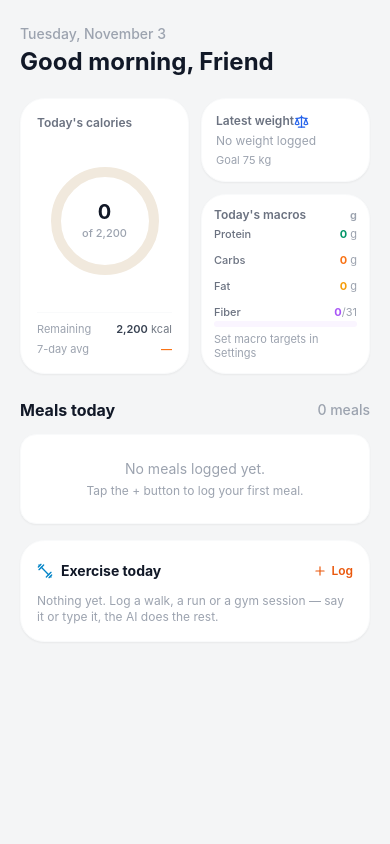
Test: HomeTab weight card › opens the weight entry form for today when the card is tapped
Expected: the text "Add weight" is not shown
Click the button with aria-label "Log weight". click: (286, 140)
box: 201,98 -> 370,182
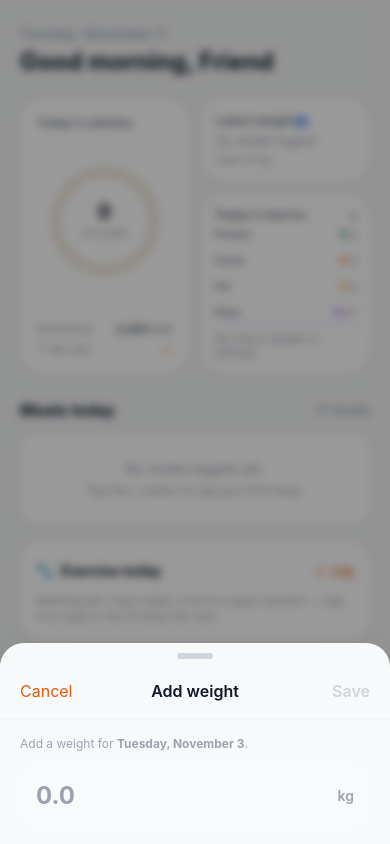
Expected: the heading "Add weight" is shown, 151,679 -> 239,703
Expected: the field with placeholder "0.0" is shown, 36,780 -> 338,812
